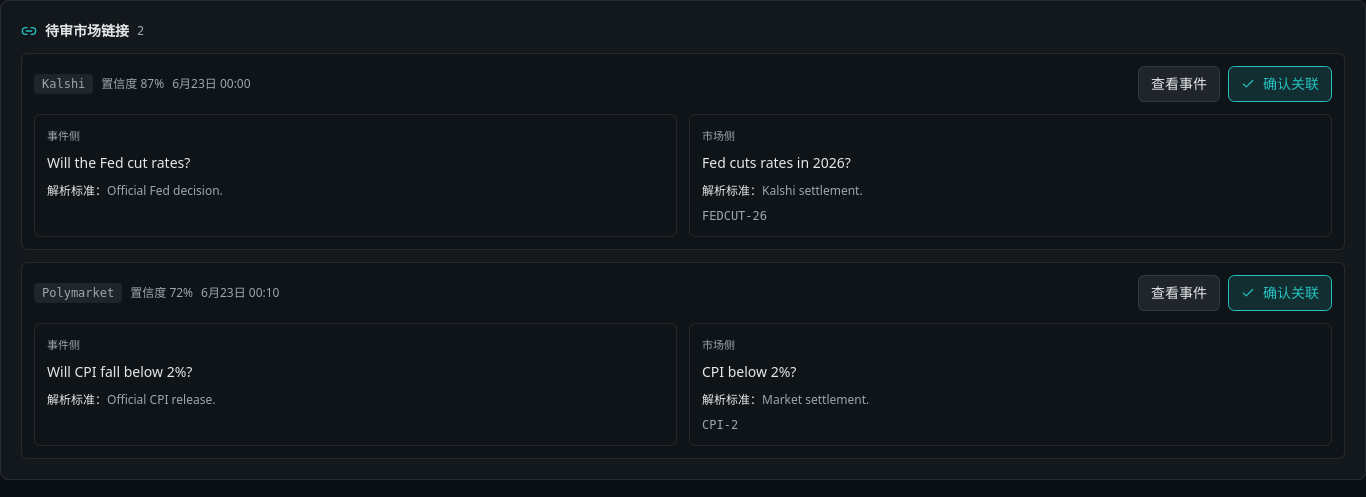
Test case: PendingLinks › removes only the verified pending link by stable event/contract key
Expected: the text "Will the Fed cut rates?" is shown, [47, 153, 190, 172]
Expected: the text "Will CPI fall below 2%?" is shown, [47, 362, 192, 381]
Click the 1st button "确认关联": (1280, 84) [1228, 66, 1332, 102]
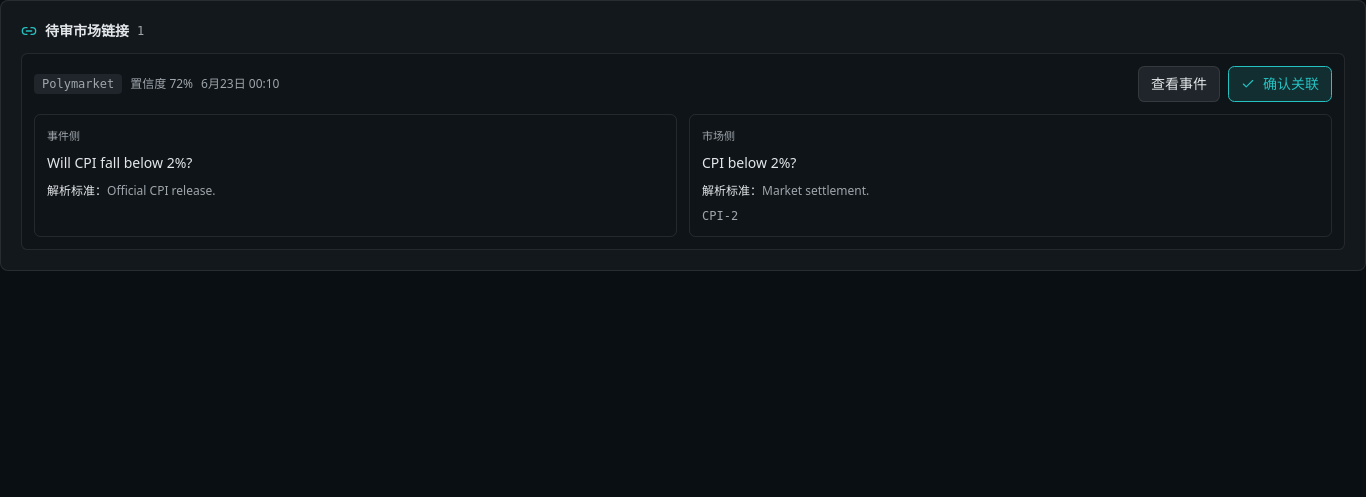
Expected: the text "Will CPI fall below 2%?" is shown, [47, 153, 192, 172]
Result: the text "Will the Fed cut rates?" is gone
